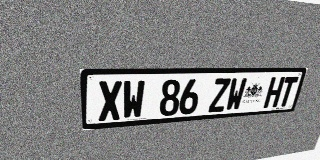6: (178, 79, 201, 115)
8: (159, 79, 182, 116)
H: (263, 77, 285, 108)
T: (277, 77, 299, 107)
W: (122, 80, 145, 119), (225, 78, 247, 111)
X: (98, 81, 122, 121)
Z: (208, 78, 231, 112)
